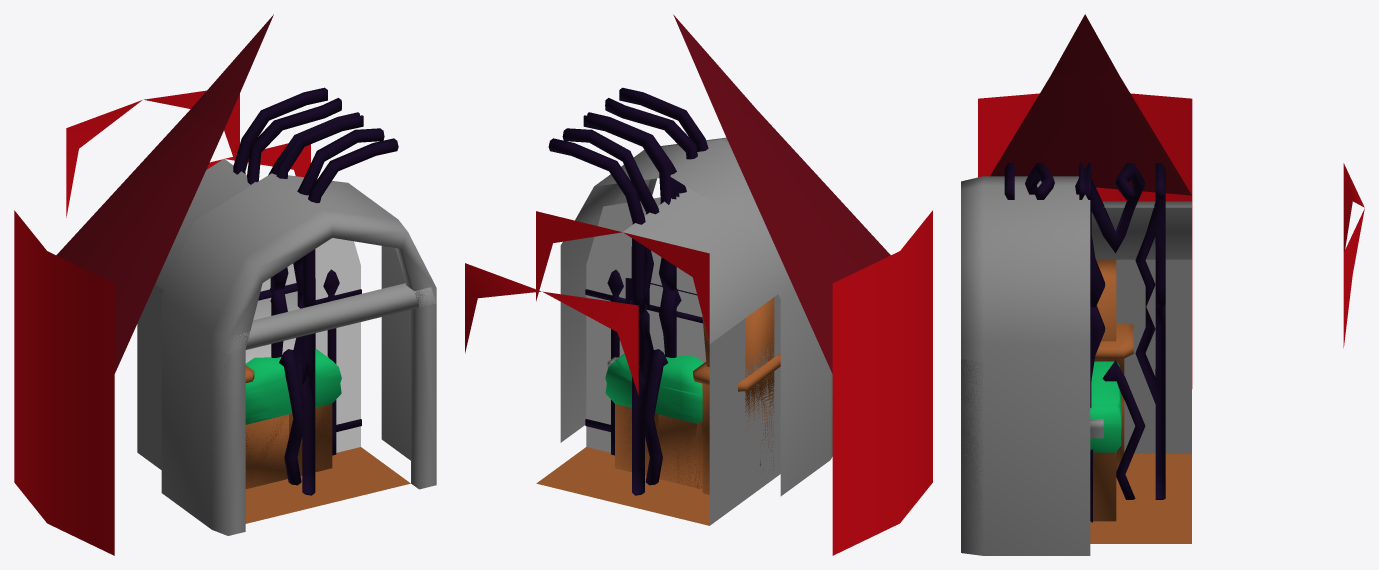
The model's file is Modular assets super simplified Parts.fbx.
3 renders of one model, left to right at view 1: azimuth 30°, elevation 25°; view 2: azimuth 150°, elevation 25°; view 3: azimuth 270°, elevation 25°, orthographic. The views are drawn at different scales.
Visible parts, largest first — view 1: Tunnel Entrance Piece, Large Curved Wall, Large Curved Ceiling, Fencing Top Entry, Small Curved Wall, Gate Door, FloorSquare, Fencing Bottom Entry, Tunnel Entrance Piece Top A, Outter Walls Hedged A, Tunnel Entrance Piece Side A, Narrow Corridor Wall (+9 smaller); view 2: Tunnel Entrance Piece, Large Curved Wall, Large Curved Ceiling, Narrow Corridor Wall, Fencing Top Entry, Small Curved Wall, Curved Entrance Ceiling, Gate Door, FloorSquare, Outter Walls Hedged A, Basic End, Fencing Bottom Entry (+6 smaller); view 3: Tunnel Entrance Piece, Large Curved Ceiling, Narrow Corridor Wall, Fencing Top Entry, FloorSquare, Small Curved Wall, Fencing Bottom Entry, Curved Entrance Ceiling, Tunnel Entrance Piece Side A, Outter Walls Hedged A, Large Curved Ceiling Tip, Tunnel Curve Top (+4 smaller).
Part boxes in pixels (left/top/right/bottom): Tunnel Entrance Piece: left=161, top=173, right=436, bottom=535; Large Curved Wall: left=14, top=301, right=114, bottom=555; Large Curved Ceiling: left=56, top=109, right=222, bottom=373; Fencing Top Entry: left=233, top=87, right=398, bottom=308; Small Curved Wall: left=14, top=210, right=114, bottom=373; Gate Door: left=260, top=238, right=360, bottom=452; FloorSquare: left=245, top=447, right=410, bottom=523; Fencing Bottom Entry: left=270, top=289, right=315, bottom=495; Tunnel Entrance Piece Top A: left=245, top=283, right=418, bottom=349; Outter Walls Hedged A: left=245, top=357, right=341, bottom=487; Tunnel Entrance Piece Side A: left=212, top=303, right=436, bottom=534; Narrow Corridor Wall: left=137, top=284, right=163, bottom=469; Tunnel Entrance Piece: left=560, top=137, right=832, bottom=496; Large Curved Wall: left=832, top=301, right=932, bottom=555; Large Curved Ceiling: left=724, top=110, right=890, bottom=373; Narrow Corridor Wall: left=709, top=294, right=780, bottom=525; Fencing Top Entry: left=548, top=87, right=708, bottom=314; Small Curved Wall: left=832, top=210, right=932, bottom=373; Curved Entrance Ceiling: left=623, top=186, right=777, bottom=343; Gate Door: left=586, top=197, right=706, bottom=452; FloorSquare: left=536, top=447, right=709, bottom=525; Outter Walls Hedged A: left=605, top=356, right=703, bottom=488; Basic End: left=658, top=353, right=780, bottom=494; Fencing Bottom Entry: left=632, top=289, right=676, bottom=495; Tunnel Entrance Piece: left=961, top=176, right=1090, bottom=555; Large Curved Ceiling: left=990, top=73, right=1191, bottom=195; Narrow Corridor Wall: left=1116, top=259, right=1191, bottom=453; Fencing Top Entry: left=1004, top=163, right=1165, bottom=307; FloorSquare: left=1090, top=453, right=1191, bottom=543; Small Curved Wall: left=978, top=93, right=1192, bottom=194; Fencing Bottom Entry: left=1091, top=305, right=1165, bottom=499; Curved Entrance Ceiling: left=1091, top=201, right=1191, bottom=259; Tunnel Entrance Piece Side A: left=961, top=359, right=983, bottom=553; Outter Walls Hedged A: left=1090, top=361, right=1121, bottom=521; Large Curved Ceiling Tip: left=1051, top=14, right=1119, bottom=75; Tunnel Curve Top: left=1343, top=163, right=1364, bottom=347.
Bounding box in the file's own units: 388 × 500 × 378.
